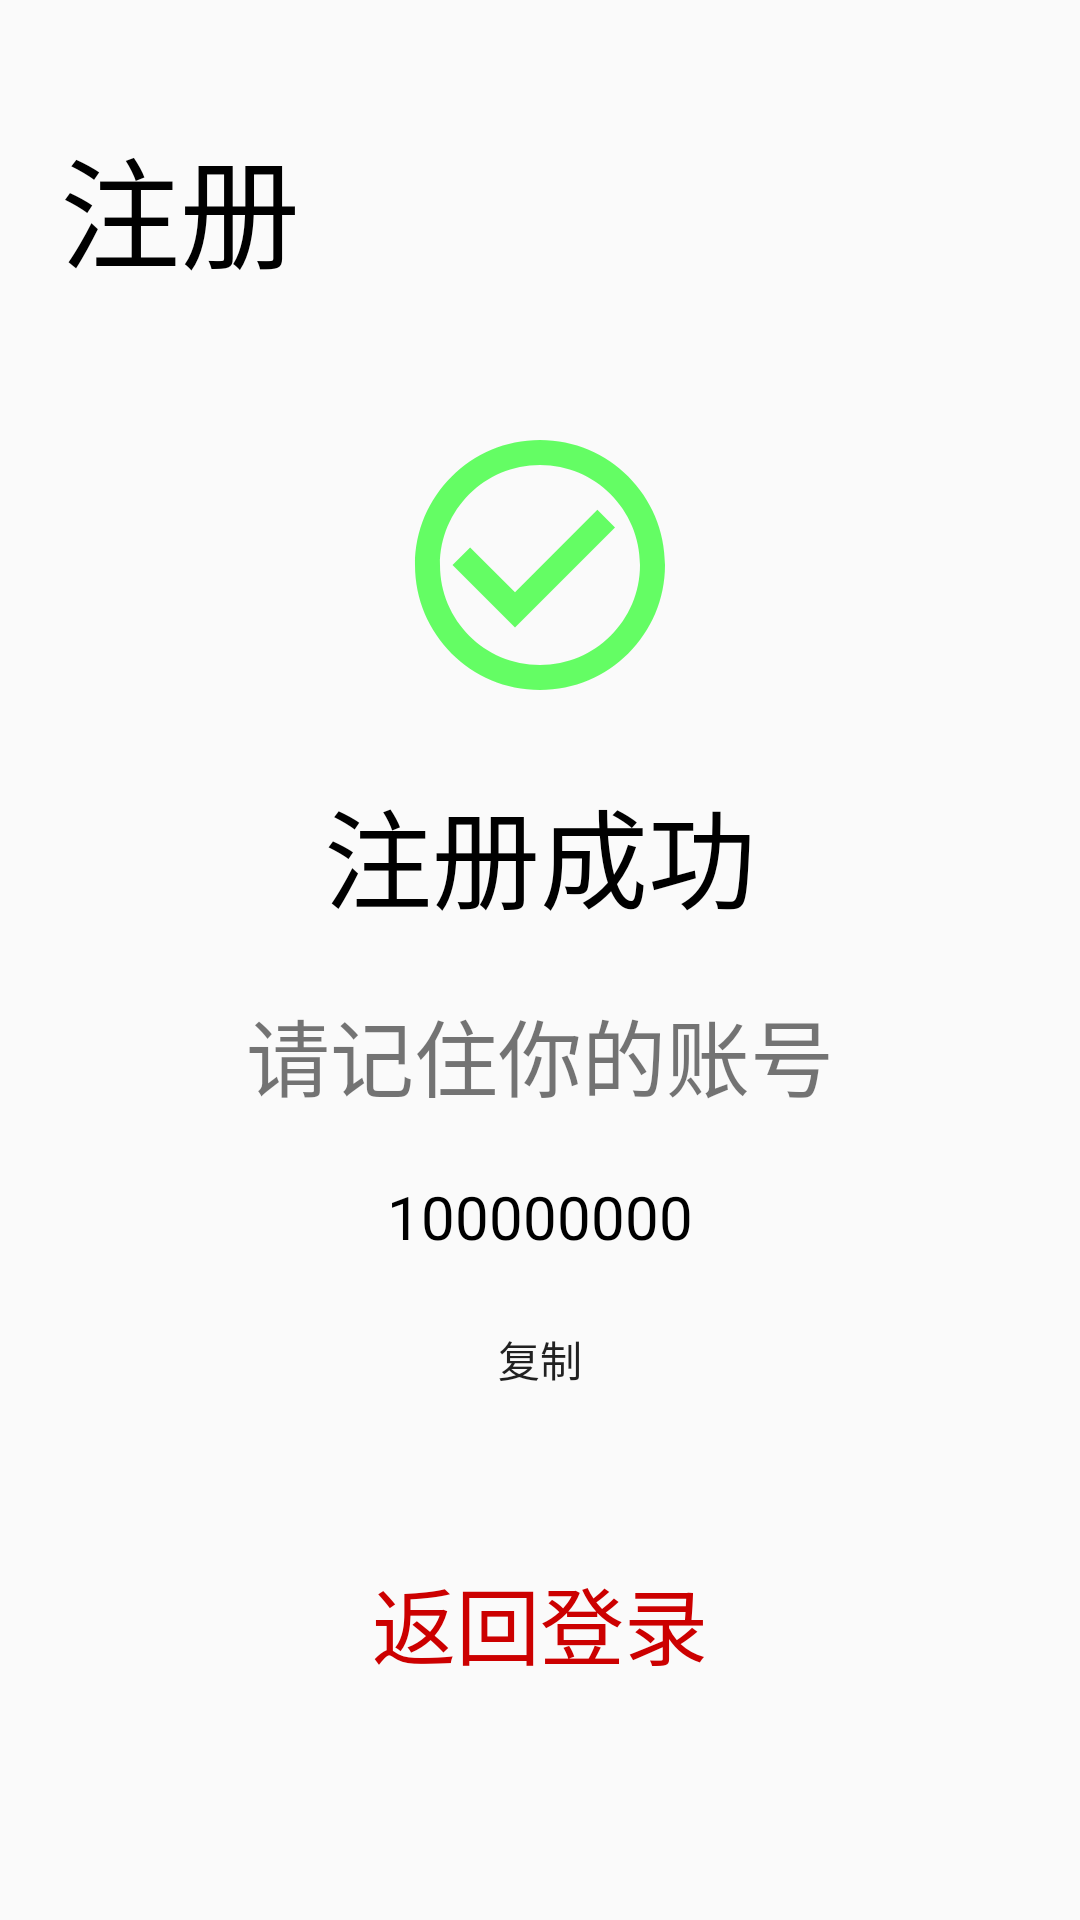

Named icons in this screenshot (1080*1920) and their centers, (x=x, y=y):
success: (x=540, y=565)
